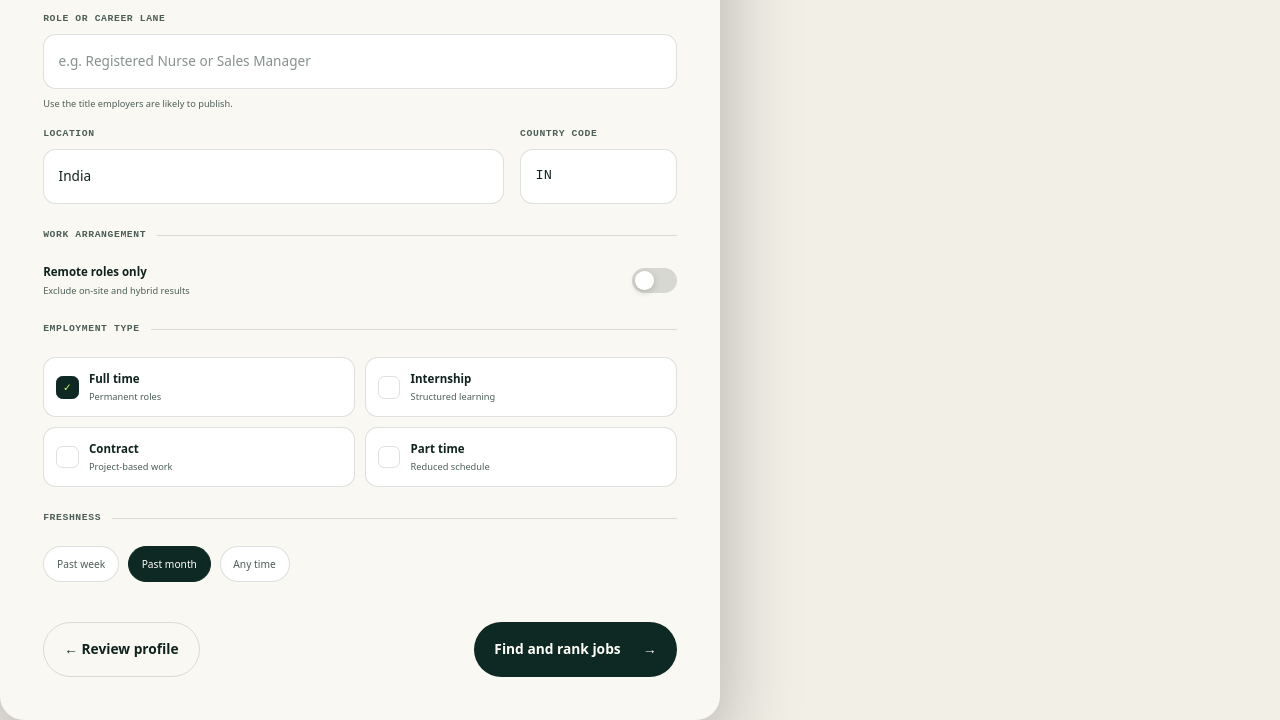
it: RolePreferencesForm › requires a focused role before starting discovery
This screenshot has width=1280, height=720.
(page scrolled)
Click the button "Find and rank jobs →": (576, 650) [474, 622, 677, 677]
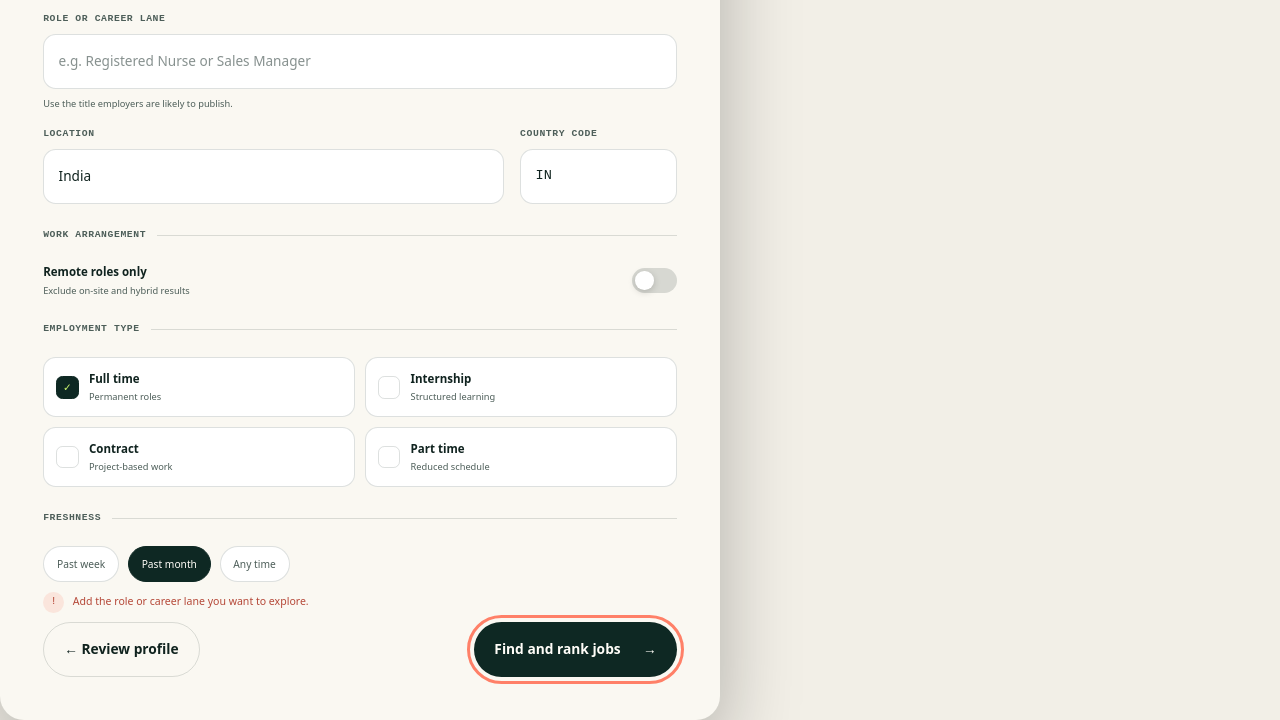
expect the text "Add the role or career lane you want to explore." is shown: met, box [73, 594, 309, 608]
